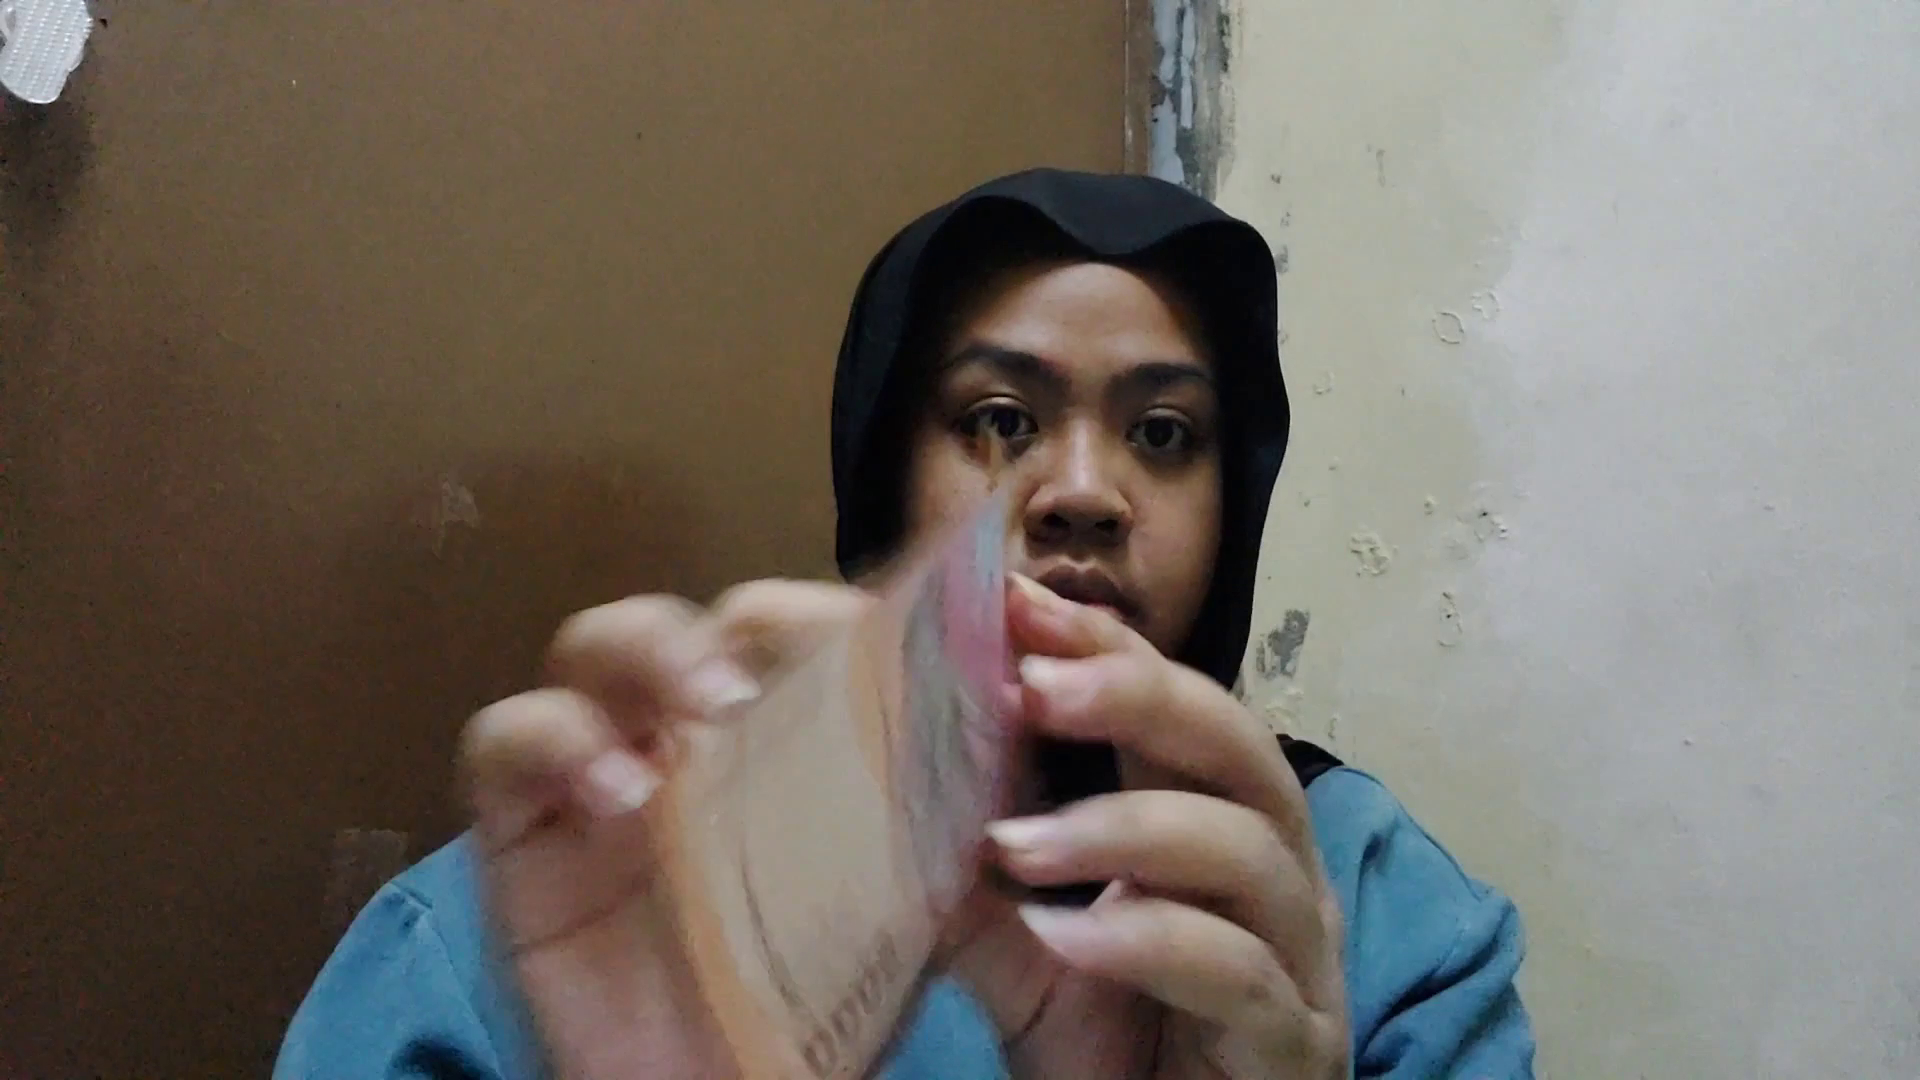5k: (658, 493, 1060, 1080)
